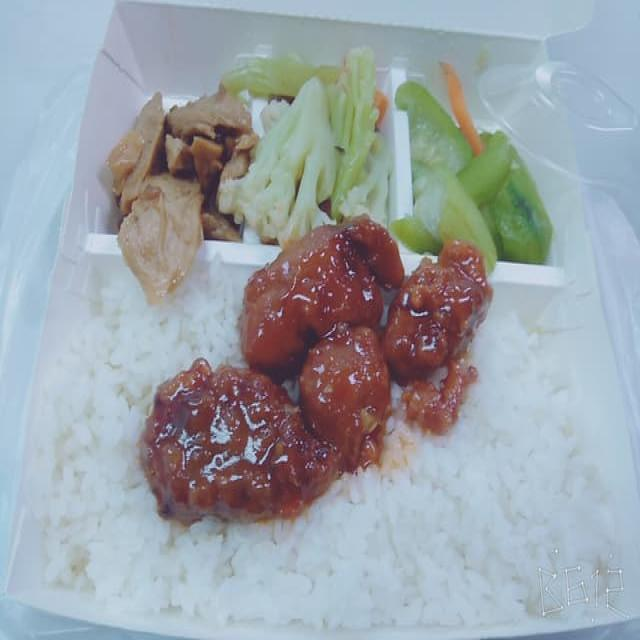cauliflower: (272, 64, 384, 214)
meat: (179, 257, 483, 483)
rice: (355, 467, 607, 625), (59, 319, 164, 552), (190, 527, 330, 611), (502, 305, 584, 423)
